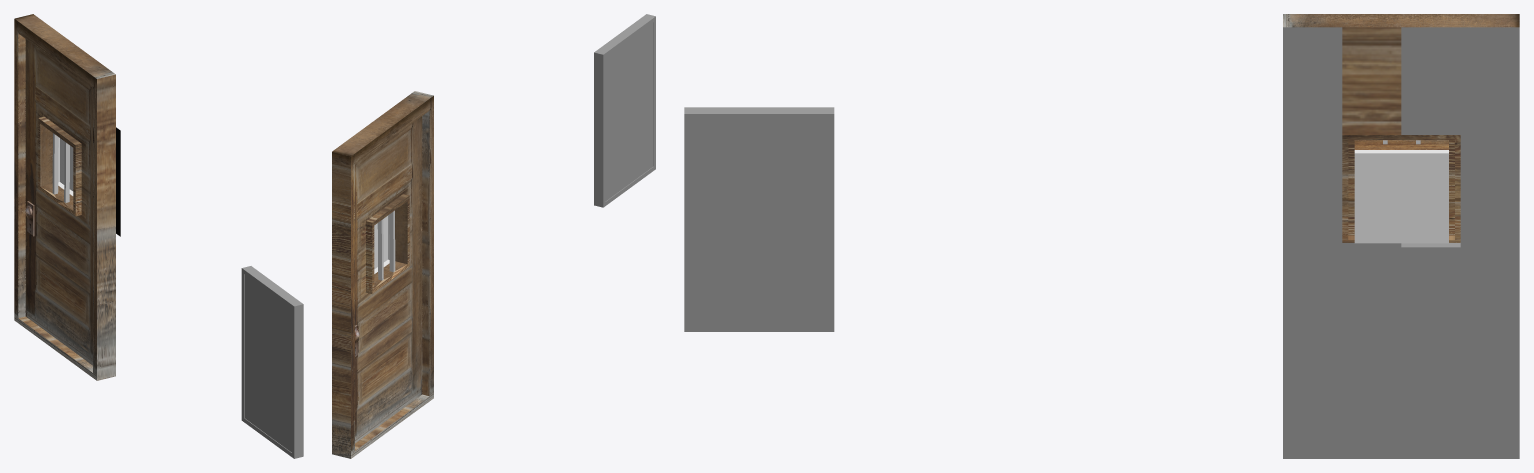
Rendered from Windowd and door sinint!!!!!.fbx.
The picture shows the model from 3 angles, left to right: view 1: azimuth 30°, elevation 25°; view 2: azimuth 150°, elevation 25°; view 3: azimuth 270°, elevation 25°; orthographic projection. The views are drawn at different scales.
Visible parts, largest first — view 1: pCube6, polySurface2, polySurface3, pPlane2; view 2: pCube6, polySurface2, polySurface3; view 3: pCube6, polySurface4, polySurface3.
Boxes of the visible parts, x1,y1,x2,y2 form: pCube6: (14,14,115,380); polySurface2: (244,274,291,452); polySurface3: (241,266,303,458); pPlane2: (116,127,120,236); pCube6: (332,91,433,458); polySurface2: (605,22,653,200); polySurface3: (594,14,655,207); pCube6: (1283,14,1519,458); polySurface4: (684,114,834,331); polySurface3: (684,107,834,113).
Bounding box in the file's own units: 105 × 712 × 1247.
